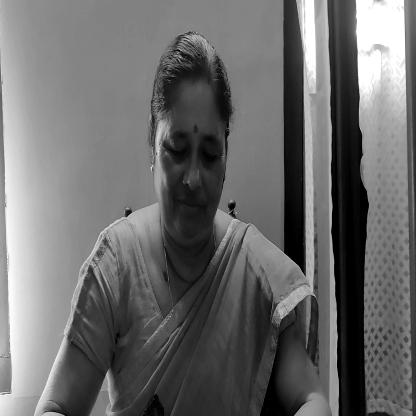Normal: (154, 22, 224, 252)
